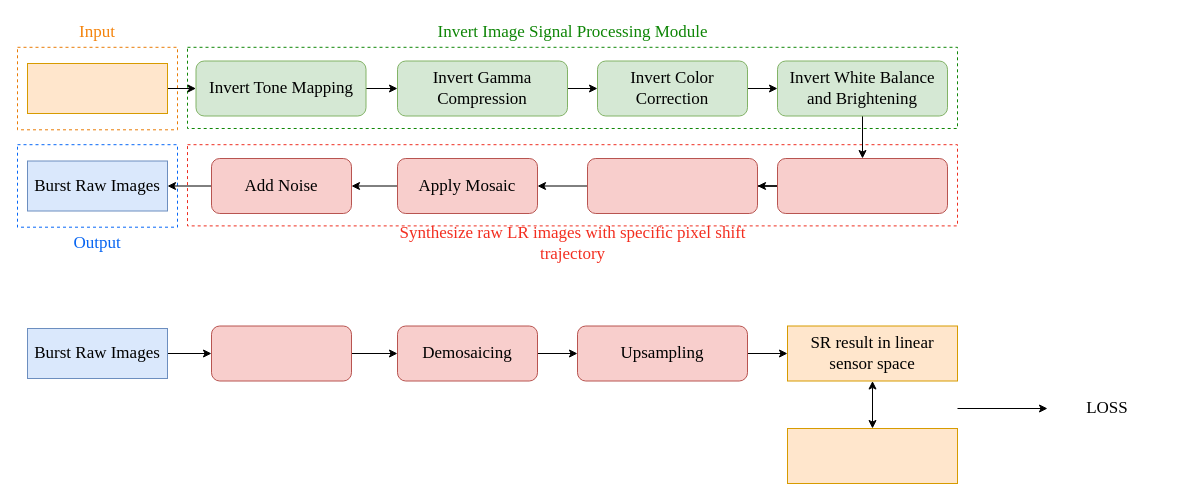
Image size: 1185x501. Some labels were removed from this diagram. The centre of each missing label's shape, as x and y in pixels:
Apply "Bilinear" Downsampling: the point at 672,186
Denoising: the point at 281,353
GT in linear sensor space: the point at 872,456
One sRGB Image: the point at 97,88
Specify pixel shift trajetory: the point at 862,186
